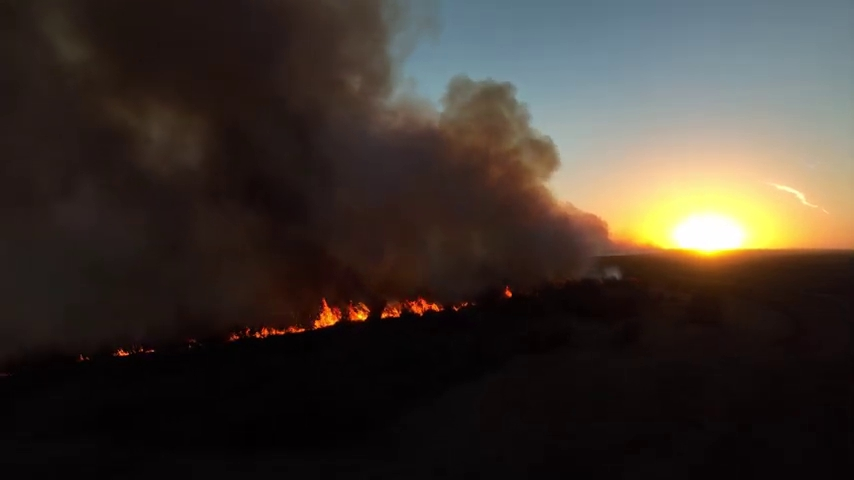forest_fire: (228, 299, 370, 339), (379, 296, 443, 317), (113, 345, 154, 356), (449, 303, 472, 309), (188, 339, 197, 347), (77, 354, 87, 360), (503, 288, 510, 296)
